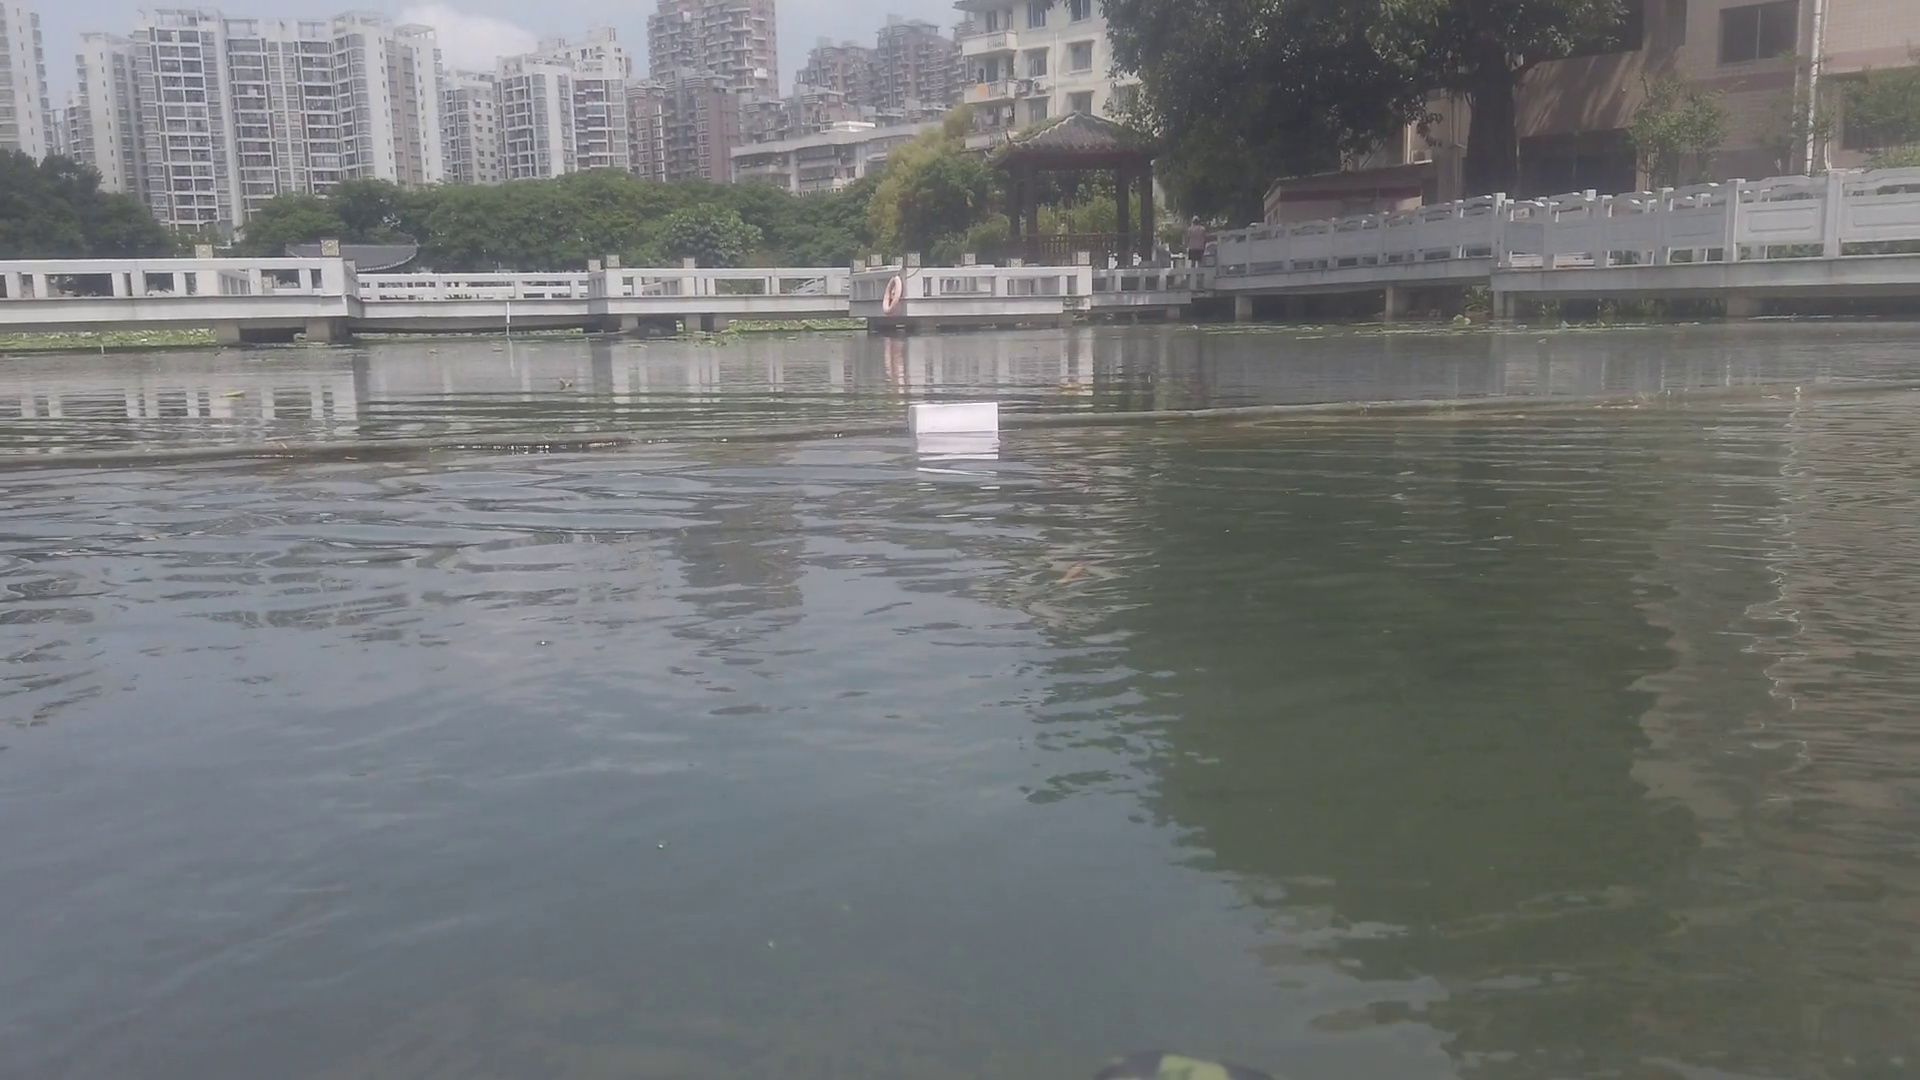carton: (909, 397, 1004, 438)
